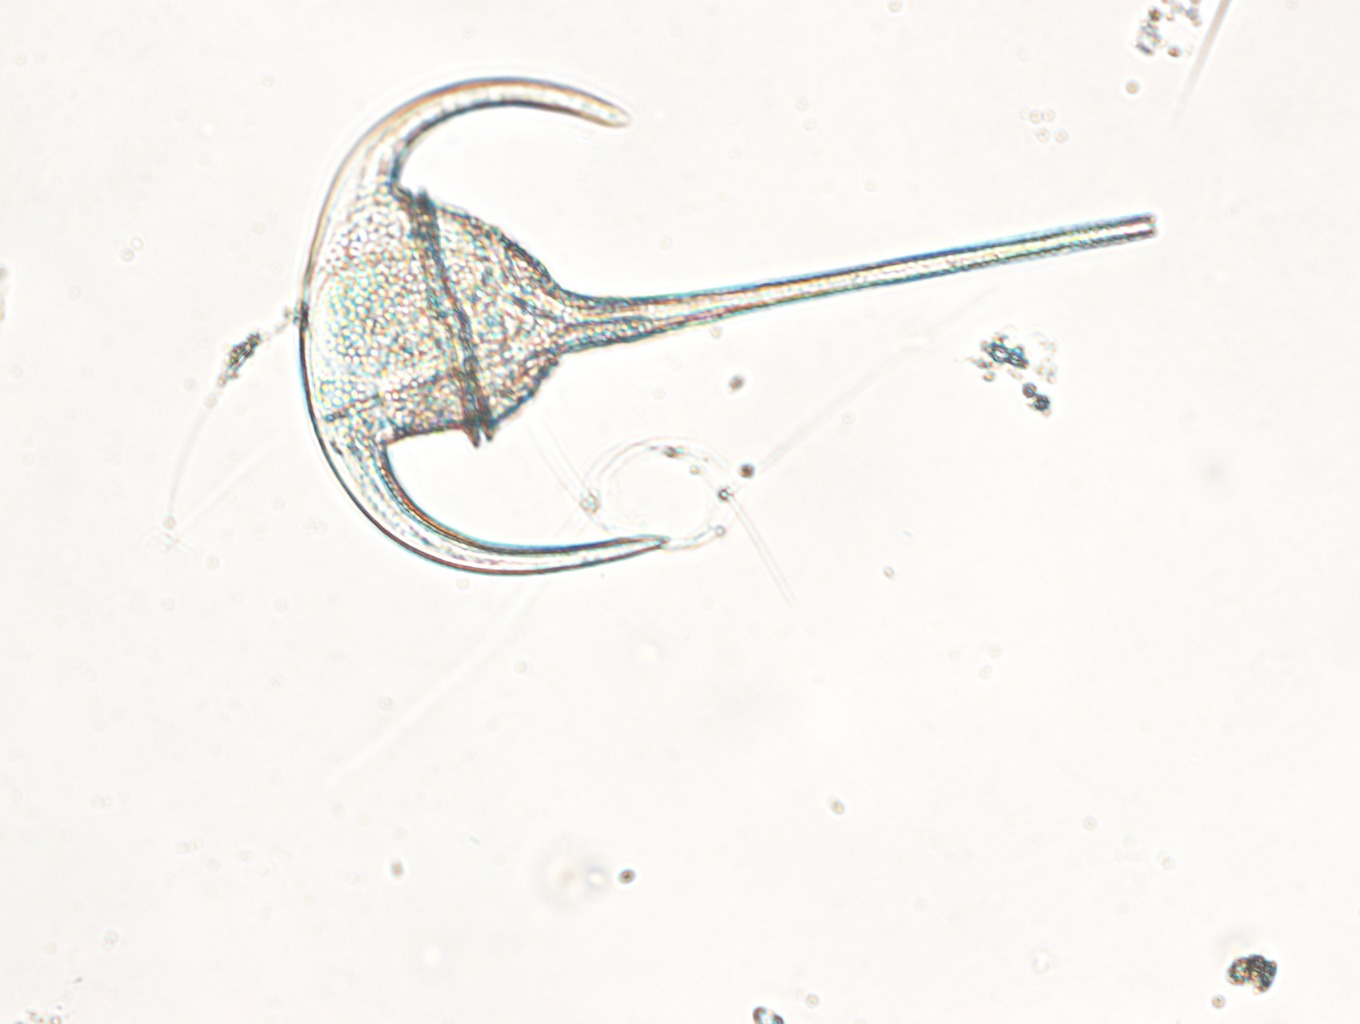ceratium tripos: (295, 72, 1175, 592)
